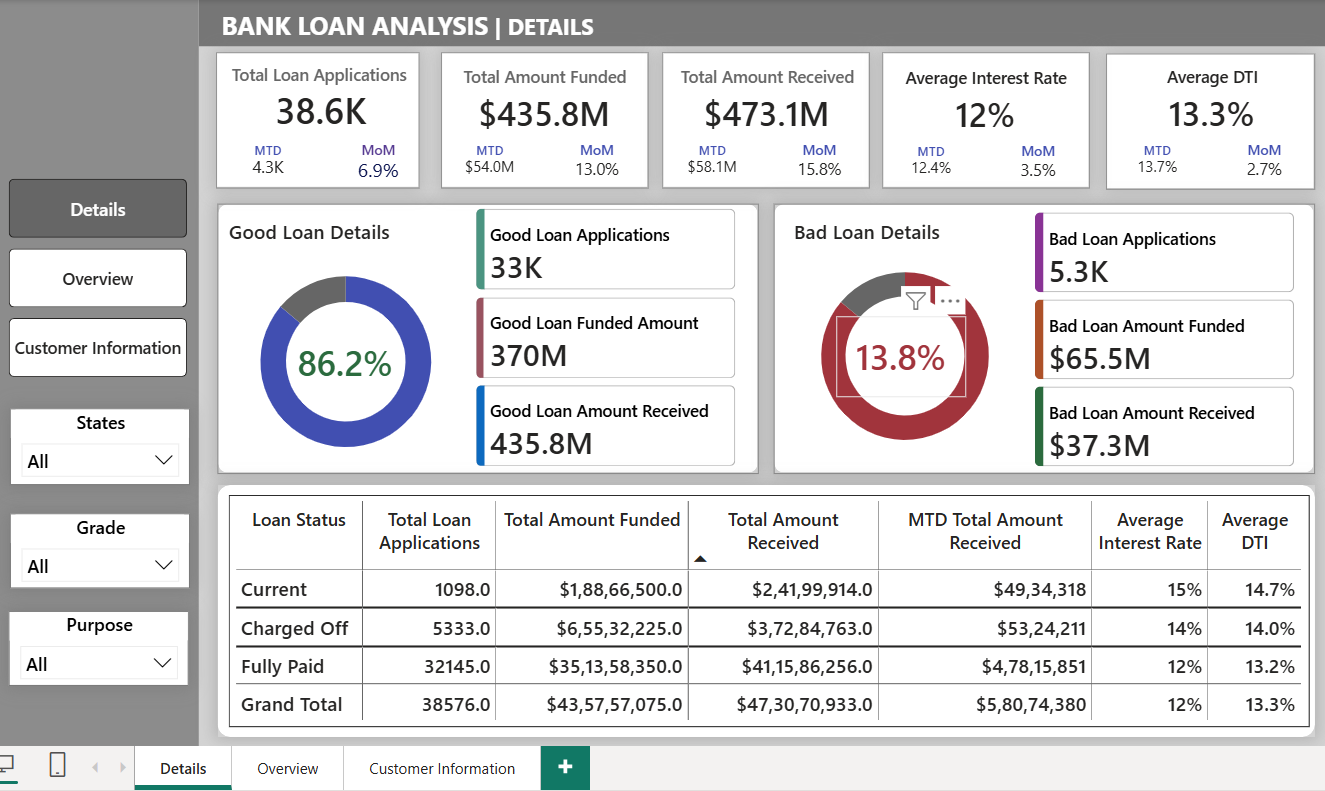

Layout of this report page (visuals, bound fields, positions):
{"tool":"powerbi","page":{"name":"Details","canvas":[1280,720],"ordinal":0},"visuals":[{"type":"shape","box":[211.1,51.9,196.6,130.3],"z":0},{"type":"textbox","box":[430.3,58,190.6,33.6],"z":0,"group":"g2"},{"type":"textbox","box":[645.1,58,190.6,33.6],"z":0,"group":"g3"},{"type":"textbox","box":[1074.8,58,190.6,33.6],"z":0,"group":"g5"},{"type":"textbox","box":[856.3,59.3,190.6,33.6],"z":0,"group":"g4"},{"type":"donutChart","fields":{"Category":["bank_loan_data.Good v Bad Loan"],"Y":["_Measures.Total Loan Applications"]},"box":[213.6,240.7,240.7,216.1],"z":0,"group":"g6"},{"type":"shape","box":[196.6,0,1083.4,42.2],"z":1000},{"type":"card","fields":{"Values":["bank_loan_data.Total Loan Applications"]},"box":[223.2,84.8,168.4,46.7],"z":1000,"group":"g1"},{"type":"card","fields":{"Values":["bank_loan_data.Total Amount Funded"]},"box":[429.6,86,191.8,48.3],"z":1000,"group":"g2"},{"type":"card","fields":{"Values":["_Measures.Total Amount Received"]},"box":[644.4,86,191.8,48.3],"z":1000,"group":"g3"},{"type":"card","fields":{"Values":["_Measures.Average DTI"]},"box":[1074.1,86,191.8,48.3],"z":1000,"group":"g5"},{"type":"card","fields":{"Values":["_Measures.Average Interest Rate"]},"box":[855.6,87.3,191.8,48.3],"z":1000,"group":"g4"},{"type":"card","fields":{"Values":["_Measures.Good Loan %"]},"box":[276.6,316.6,113.6,66.6],"z":1000,"group":"g6"},{"type":"shape","box":[0,0,196.6,711.8],"z":2000},{"type":"card","title":"MTD","fields":{"Values":["_Measures.MTD Total Amount Funded"]},"box":[437.5,136.4,70,36.2],"z":2000,"group":"g2"},{"type":"card","title":"MTD","fields":{"Values":["_Measures.MTD Total Amount Received"]},"box":[652.3,136.4,70,36.2],"z":2000,"group":"g3"},{"type":"card","title":"MTD","fields":{"Values":["_Measures.MTD Average DTI"]},"box":[1082,136.4,70,36.2],"z":2000,"group":"g5"},{"type":"card","title":"MTD","fields":{"Values":["_Measures.MTD Interest Rate"]},"box":[863.5,137.7,70,36.2],"z":2000,"group":"g4"},{"type":"card","title":"MTD","fields":{"Values":["bank_loan_data.MTD Loan Applications"]},"box":[225.3,139,63.9,39.2],"z":2000,"group":"g1"},{"type":"card","title":"MoM","fields":{"Values":["_Measures.MoM Total Amount Funded"]},"box":[541.3,135.2,68.8,41],"z":3000,"group":"g2"},{"type":"card","title":"MoM","fields":{"Values":["_Measures.MoM Total Amount Received"]},"box":[756.1,135.2,68.8,41],"z":3000,"group":"g3"},{"type":"card","title":"MoM","fields":{"Values":["_Measures.MoM Average DTI"]},"box":[1185.8,135.2,68.8,41],"z":3000,"group":"g5"},{"type":"card","title":"MoM","fields":{"Values":["_Measures.MoM Average Interest Rate"]},"box":[967.3,136.5,68.8,41],"z":3000,"group":"g4"},{"type":"card","title":"MoM","fields":{"Values":["bank_loan_data.MoM Loan Applications"]},"box":[332.4,138,62.2,44.3],"z":3000,"group":"g1"},{"type":"shape","box":[209.9,196.6,522.4,260.6],"z":3000},{"type":"shape","box":[1067.9,51.9,201.2,130.9],"z":4000},{"type":"shape","box":[425.9,50.6,200,130.9],"z":5000},{"type":"group","id":"g1","title":"Group 1","box":[223.2,84.8,171.3,97.4],"z":6000,"group":"g8"},{"type":"group","id":"g2","title":"Group 1","box":[429.6,58,192.6,117.3],"z":7000},{"type":"shape","box":[639.5,50.6,200,130.9],"z":8000},{"type":"group","id":"g3","title":"Group 1","box":[644.4,58,191.4,119.8],"z":9000},{"type":"shape","box":[851.9,50.6,200,130.9],"z":10000},{"type":"group","id":"g4","title":"Group 1","box":[855.6,59.3,191.4,119.8],"z":11000},{"type":"group","id":"g5","title":"Group 1","box":[1074.1,58,190.1,119.8],"z":12000},{"type":"shape","box":[746.9,196.3,522.2,260.5],"z":13000},{"type":"donutChart","fields":{"Category":["bank_loan_data.Good v Bad Loan"],"Y":["_Measures.Total Loan Applications"]},"box":[759.2,237.9,229.6,212.3],"z":14000},{"type":"group","id":"g6","title":"Group 2","box":[213.6,240.7,240.7,216.1],"z":15000},{"type":"cardVisual","fields":{"Data":["_Measures.Good Loan Applications","_Measures.Good Loan Funded Amount","_Measures.Good Loan Amount Received"]},"box":[454.3,196.3,260.5,260.5],"z":16000},{"type":"textbox","box":[216.1,206.2,181.5,34.6],"z":17000},{"type":"card","fields":{"Values":["_Measures.Bad Loan %"]},"box":[807.4,305,124.7,79],"z":18000},{"type":"textbox","box":[761.7,206.2,181.5,34.6],"z":19000},{"type":"cardVisual","fields":{"Data":["_Measures.Bad Loan Applications","_Measures.Bad Loan Amount Funded","_Measures.Bad Loan Amount Received"]},"box":[993.8,200,260.5,256.8],"z":20000},{"type":"shape","box":[209.9,467.9,1059.3,243.2],"z":21000},{"type":"tableEx","fields":{"Values":["bank_loan_data.loan_status","_Measures.Total Loan Applications","_Measures.Total Amount Funded","_Measures.Total Amount Received","_Measures.MTD Total Amount Received","_Measures.Average Interest Rate","_Measures.Average DTI"]},"box":[220.5,477.6,1043.4,224.3],"z":22000},{"type":"pageNavigator","box":[12.1,196.6,172.5,191.8],"z":23000},{"type":"slicer","title":"States","fields":{"Values":["bank_loan_data.address_state"]},"box":[12.1,422.3,173.7,73.6],"z":23000,"group":"g7"},{"type":"textbox","box":[208.7,3.6,598.4,47.1],"z":24000},{"type":"group","id":"g7","title":"Group 3","box":[10.9,422.3,174.9,267.8],"z":25000},{"type":"slicer","title":"Grade","fields":{"Values":["bank_loan_data.grade"]},"box":[12.1,523.6,173.7,72.4],"z":25000,"group":"g7"},{"type":"textbox","box":[213.5,51.9,191.8,36.7],"z":26000,"group":"g8"},{"type":"slicer","title":"Purpose","fields":{"Values":["bank_loan_data.purpose"]},"box":[10.9,617.7,173.7,72.4],"z":26000,"group":"g7"},{"type":"group","id":"g8","title":"Group 4","box":[213.5,51.9,191.8,130.3],"z":26001}]}

Visuals, with their boxes on the page's 1280x720 design canvas (x1, y1, x2, y2). These are canvas units, not pixel positions in the 1325x791 screenshot, which may show the page scaled, cropped or inside an application window:
shape: {"left": 211, "top": 52, "right": 408, "bottom": 182}
textbox: {"left": 430, "top": 58, "right": 621, "bottom": 92}
textbox: {"left": 645, "top": 58, "right": 836, "bottom": 92}
textbox: {"left": 1075, "top": 58, "right": 1265, "bottom": 92}
textbox: {"left": 856, "top": 59, "right": 1047, "bottom": 93}
donutChart - bank_loan_data.Good v Bad Loan x _Measures.Total Loan Applications: {"left": 214, "top": 241, "right": 454, "bottom": 457}
shape: {"left": 197, "top": 0, "right": 1280, "bottom": 42}
card - bank_loan_data.Total Loan Applications: {"left": 223, "top": 85, "right": 392, "bottom": 132}
card - bank_loan_data.Total Amount Funded: {"left": 430, "top": 86, "right": 621, "bottom": 134}
card - _Measures.Total Amount Received: {"left": 644, "top": 86, "right": 836, "bottom": 134}
card - _Measures.Average DTI: {"left": 1074, "top": 86, "right": 1266, "bottom": 134}
card - _Measures.Average Interest Rate: {"left": 856, "top": 87, "right": 1047, "bottom": 136}
card - _Measures.Good Loan %: {"left": 277, "top": 317, "right": 390, "bottom": 383}
shape: {"left": 0, "top": 0, "right": 197, "bottom": 712}
"MTD" card: {"left": 438, "top": 136, "right": 508, "bottom": 173}
"MTD" card: {"left": 652, "top": 136, "right": 722, "bottom": 173}
"MTD" card: {"left": 1082, "top": 136, "right": 1152, "bottom": 173}
"MTD" card: {"left": 864, "top": 138, "right": 934, "bottom": 174}
"MTD" card: {"left": 225, "top": 139, "right": 289, "bottom": 178}
"MoM" card: {"left": 541, "top": 135, "right": 610, "bottom": 176}
"MoM" card: {"left": 756, "top": 135, "right": 825, "bottom": 176}
"MoM" card: {"left": 1186, "top": 135, "right": 1255, "bottom": 176}
"MoM" card: {"left": 967, "top": 136, "right": 1036, "bottom": 178}
"MoM" card: {"left": 332, "top": 138, "right": 395, "bottom": 182}
shape: {"left": 210, "top": 197, "right": 732, "bottom": 457}
shape: {"left": 1068, "top": 52, "right": 1269, "bottom": 183}
shape: {"left": 426, "top": 51, "right": 626, "bottom": 182}
"Group 1" group: {"left": 223, "top": 85, "right": 394, "bottom": 182}
"Group 1" group: {"left": 430, "top": 58, "right": 622, "bottom": 175}
shape: {"left": 640, "top": 51, "right": 840, "bottom": 182}
"Group 1" group: {"left": 644, "top": 58, "right": 836, "bottom": 178}
shape: {"left": 852, "top": 51, "right": 1052, "bottom": 182}
"Group 1" group: {"left": 856, "top": 59, "right": 1047, "bottom": 179}
"Group 1" group: {"left": 1074, "top": 58, "right": 1264, "bottom": 178}
shape: {"left": 747, "top": 196, "right": 1269, "bottom": 457}
donutChart - bank_loan_data.Good v Bad Loan x _Measures.Total Loan Applications: {"left": 759, "top": 238, "right": 989, "bottom": 450}
"Group 2" group: {"left": 214, "top": 241, "right": 454, "bottom": 457}
cardVisual - _Measures.Good Loan Applications x _Measures.Good Loan Funded Amount: {"left": 454, "top": 196, "right": 715, "bottom": 457}
textbox: {"left": 216, "top": 206, "right": 398, "bottom": 241}
card - _Measures.Bad Loan %: {"left": 807, "top": 305, "right": 932, "bottom": 384}
textbox: {"left": 762, "top": 206, "right": 943, "bottom": 241}
cardVisual - _Measures.Bad Loan Applications x _Measures.Bad Loan Amount Funded: {"left": 994, "top": 200, "right": 1254, "bottom": 457}
shape: {"left": 210, "top": 468, "right": 1269, "bottom": 711}
tableEx - bank_loan_data.loan_status x _Measures.Total Loan Applications: {"left": 220, "top": 478, "right": 1264, "bottom": 702}
pageNavigator: {"left": 12, "top": 197, "right": 185, "bottom": 388}
"States" slicer: {"left": 12, "top": 422, "right": 186, "bottom": 496}
textbox: {"left": 209, "top": 4, "right": 807, "bottom": 51}
"Group 3" group: {"left": 11, "top": 422, "right": 186, "bottom": 690}
"Grade" slicer: {"left": 12, "top": 524, "right": 186, "bottom": 596}
textbox: {"left": 214, "top": 52, "right": 405, "bottom": 89}
"Purpose" slicer: {"left": 11, "top": 618, "right": 185, "bottom": 690}
"Group 4" group: {"left": 214, "top": 52, "right": 405, "bottom": 182}
